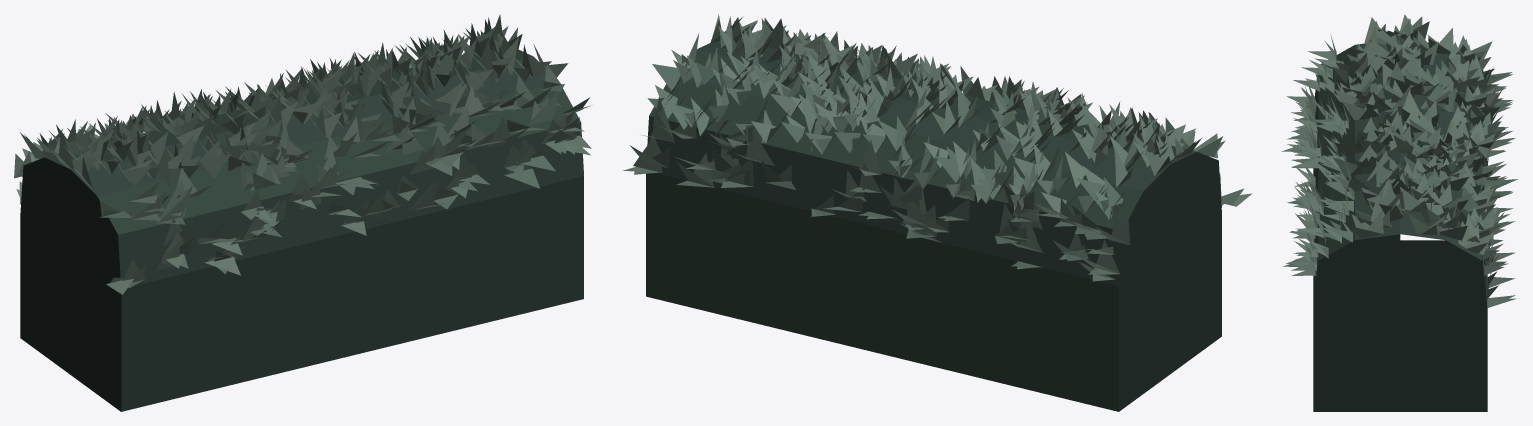
The model's file is hieda_hedge_b.glb.
3 renders of one model, left to right at view 1: azimuth 30°, elevation 25°; view 2: azimuth 150°, elevation 25°; view 3: azimuth 270°, elevation 25°, orthographic. The views are drawn at different scales.
Visible parts, largest first — view 1: hieda_hedge_b; view 2: hieda_hedge_b; view 3: hieda_hedge_b.
Boxes of the visible parts, x1=… form: hieda_hedge_b: x1=14, y1=14, x2=591, y2=411; hieda_hedge_b: x1=622, y1=14, x2=1252, y2=411; hieda_hedge_b: x1=1281, y1=14, x2=1517, y2=411.
Bounding box in the file's own units: 2.59 × 1.18 × 1.25.
